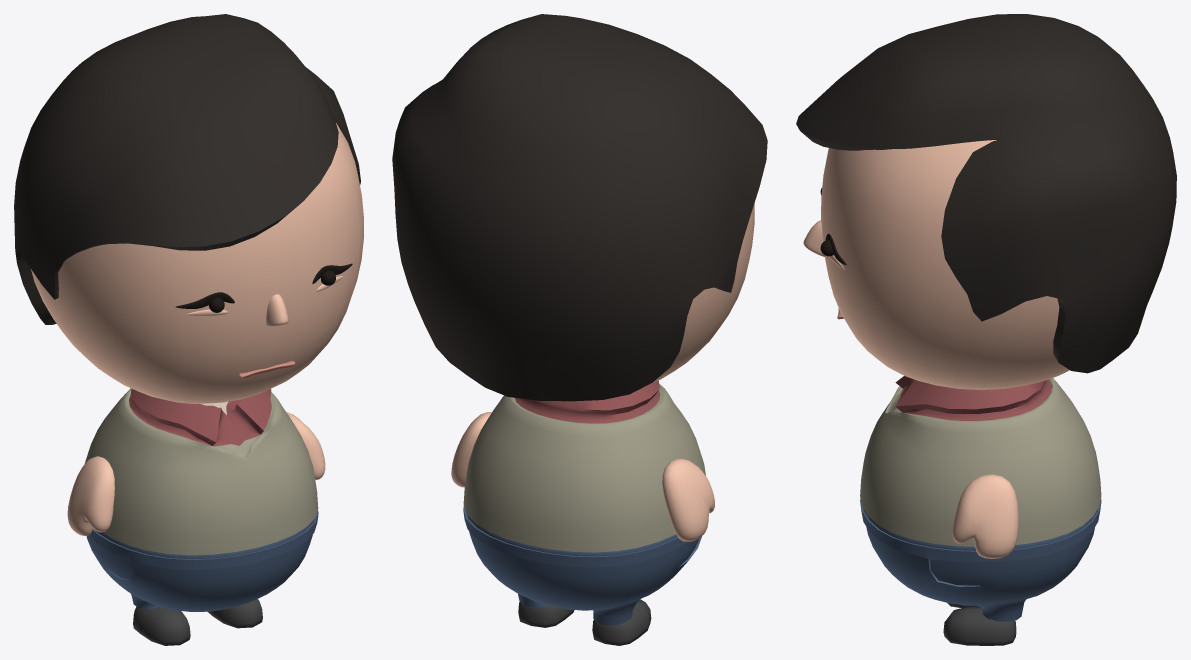
File: smallofficeboy_0_0_0_0_1_0.glb
The picture shows the model from 3 angles, left to right: view 1: azimuth 30°, elevation 25°; view 2: azimuth 150°, elevation 25°; view 3: azimuth 270°, elevation 25°; orthographic projection. The views are drawn at different scales.
Parts seen in each view (by area): view 1: p3_hair_2, body_4, p3_cloth_3, p3_eye_0; view 2: p3_hair_2, p3_cloth_3, body_4; view 3: p3_hair_2, body_4, p3_cloth_3.
Boxes of the visible parts, x1=… form: p3_hair_2: x1=14, y1=14, x2=360, y2=324; body_4: x1=31, y1=123, x2=363, y2=645; p3_cloth_3: x1=84, y1=388, x2=318, y2=611; p3_eye_0: x1=175, y1=263, x2=352, y2=315; p3_hair_2: x1=392, y1=14, x2=767, y2=401; p3_cloth_3: x1=463, y1=380, x2=705, y2=625; body_4: x1=451, y1=203, x2=754, y2=645; p3_hair_2: x1=796, y1=14, x2=1176, y2=373; body_4: x1=803, y1=140, x2=1069, y2=645; p3_cloth_3: x1=860, y1=375, x2=1101, y2=621.
Size of the model in its own units: 2.07 by 3.69 by 2.16.
